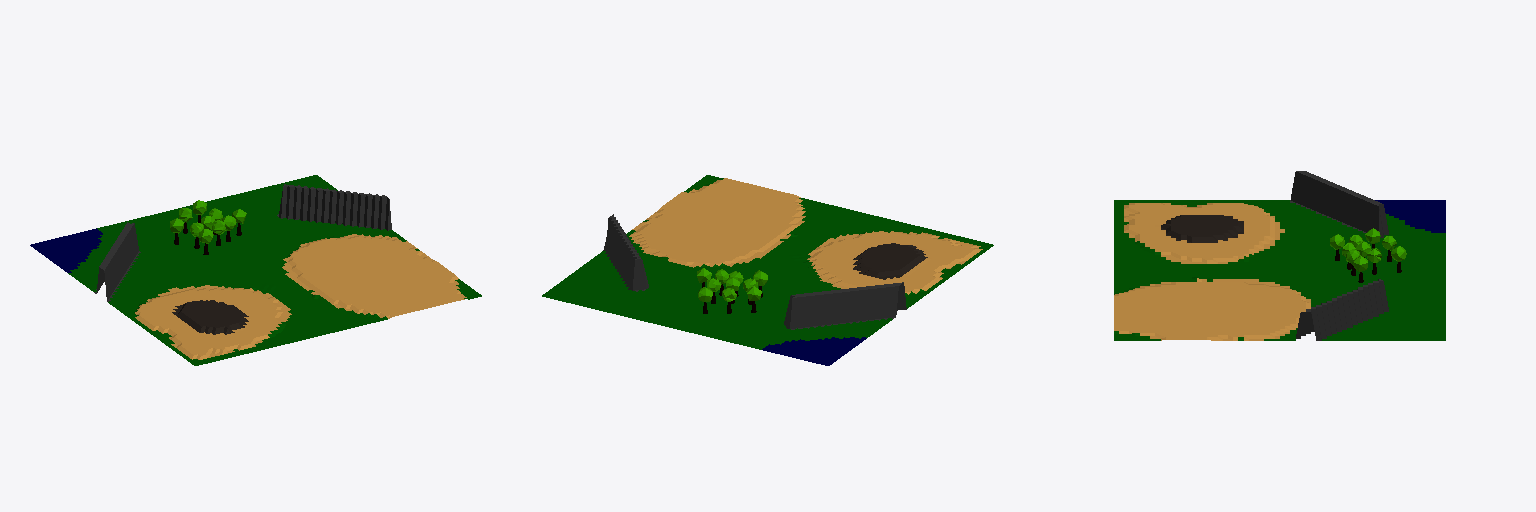
File: level1.obj
3 views of the same model, side by side, from view 1: azimuth 30°, elevation 25°; view 2: azimuth 150°, elevation 25°; view 3: azimuth 270°, elevation 25° (orthographic).
Visible parts, largest first — view 1: Plane_Plane.001; view 2: Plane_Plane.001; view 3: Plane_Plane.001.
Boxes of the visible parts, x1=… form: Plane_Plane.001: x1=30, y1=175, x2=481, y2=365; Plane_Plane.001: x1=542, y1=175, x2=993, y2=365; Plane_Plane.001: x1=1114, y1=171, x2=1445, y2=340.
Bounding box in the file's own units: 295 × 28.64 × 295.